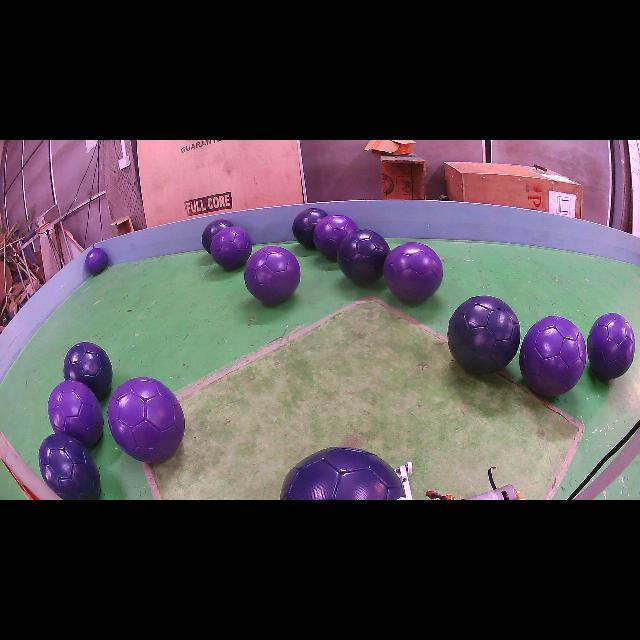B: (280, 448, 405, 500), (448, 295, 520, 374), (39, 434, 101, 500), (336, 229, 390, 284), (64, 342, 112, 400), (292, 209, 326, 248), (201, 219, 232, 254)
P: (108, 378, 185, 462), (520, 316, 586, 396), (48, 380, 104, 449), (382, 241, 442, 301), (588, 312, 635, 379), (245, 245, 300, 302), (314, 215, 358, 261), (210, 226, 252, 270), (85, 248, 108, 274)
